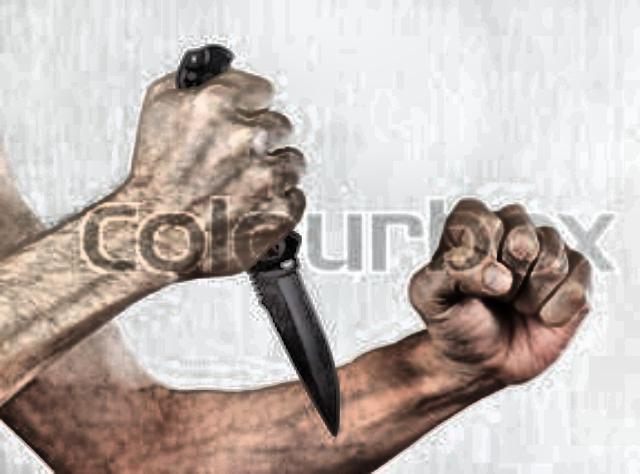knife: (198, 143, 349, 455)
